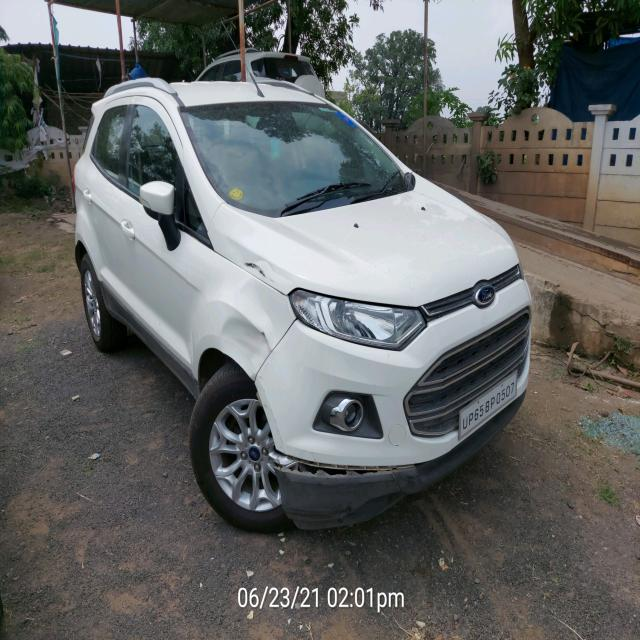damage: (277, 452, 420, 500), (223, 268, 278, 357), (240, 250, 281, 288)
